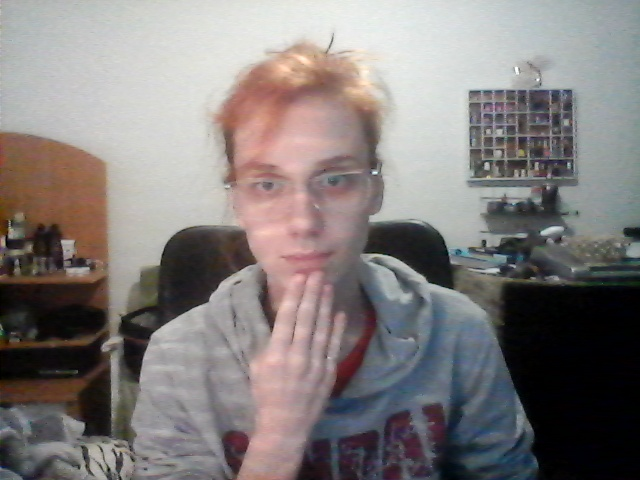dakujem: (229, 268, 389, 423)
